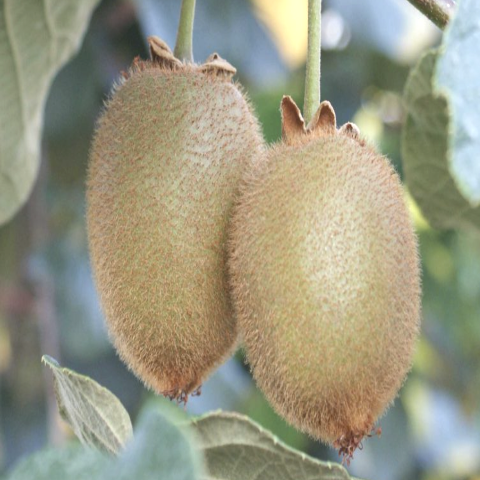kiwi: (67, 48, 279, 398), (226, 88, 420, 458)
